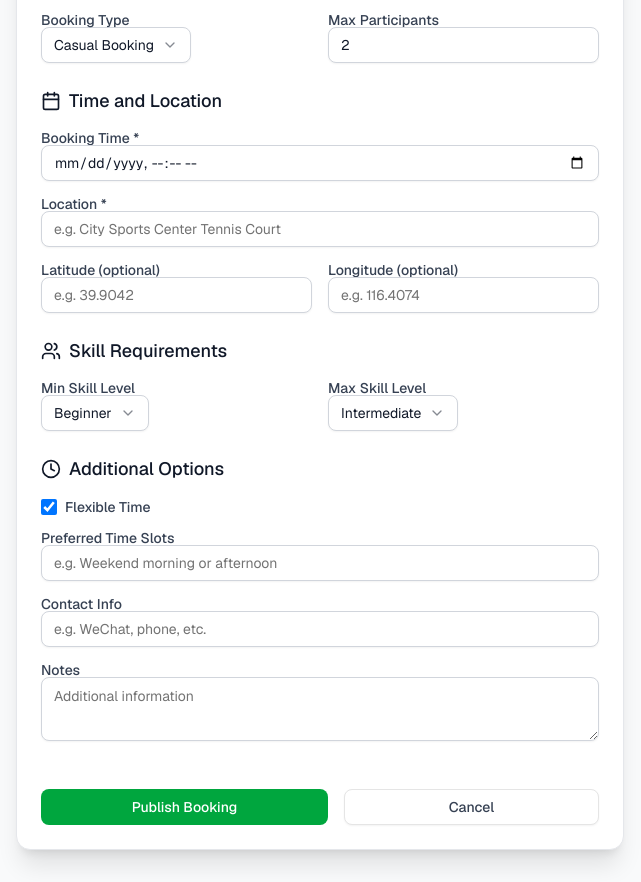
CreateBookingPage › Form Interactions › should hide preferred time slots when flexible is unchecked
This screenshot has width=641, height=882.
(page scrolled)
Click the checkbox labelled "Flexible Time" at (49, 507), box [41, 499, 57, 515]
(page scrolled)
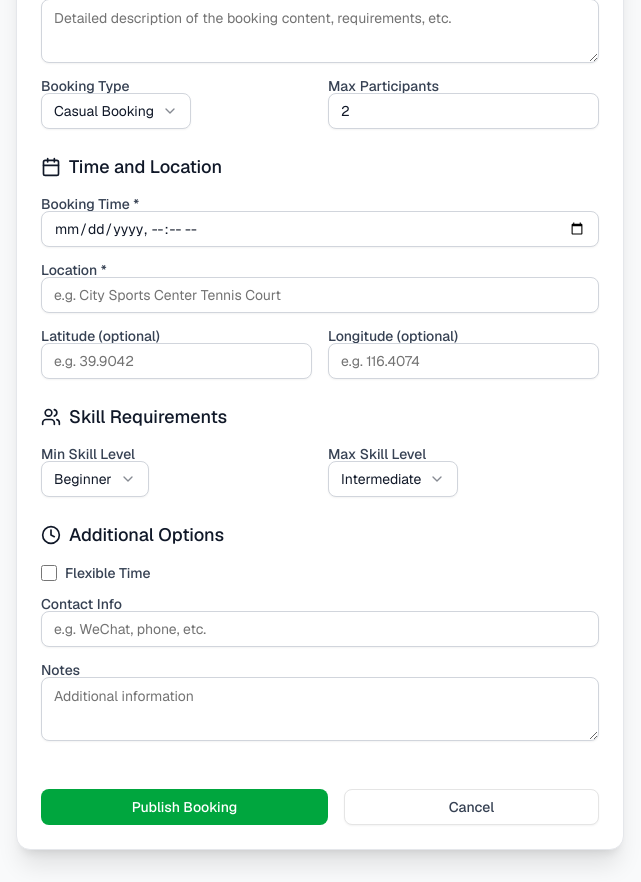
Expected: the label labelled "Preferred Time Slots" is gone
